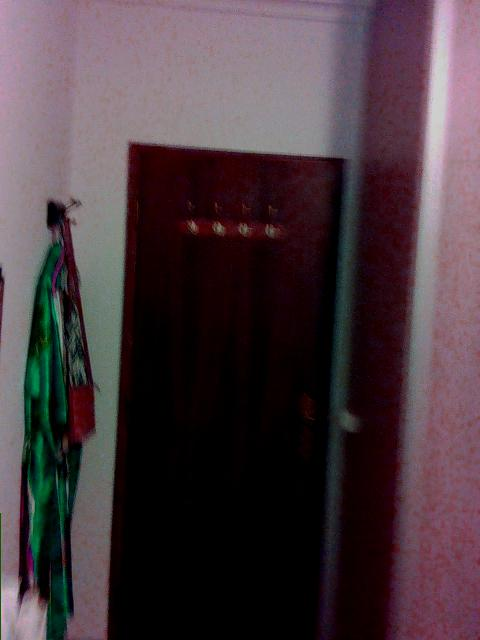closed_door: (106, 142, 344, 638)
